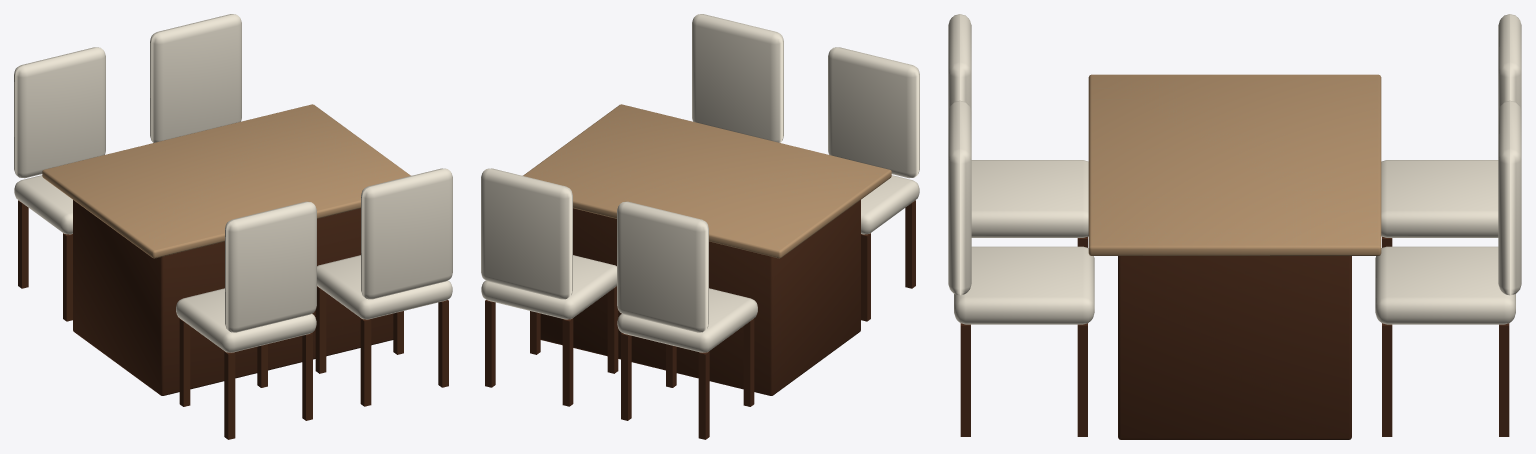
File: fur_dining_4.glb
3 renders of one model, left to right at view 1: azimuth 30°, elevation 25°; view 2: azimuth 150°, elevation 25°; view 3: azimuth 270°, elevation 25°, orthographic. The views are drawn at different scales.
Parts seen in each view (by area): view 1: FUR_dining_4; view 2: FUR_dining_4; view 3: FUR_dining_4.
Boxes of the visible parts, x1,y1,x2,y2 form: FUR_dining_4: (14,14,452,439); FUR_dining_4: (481,14,919,439); FUR_dining_4: (948,14,1521,439).
Size of the model in its own units: 1.4 by 1.08 by 1.96.
1 material, 1 textured.
